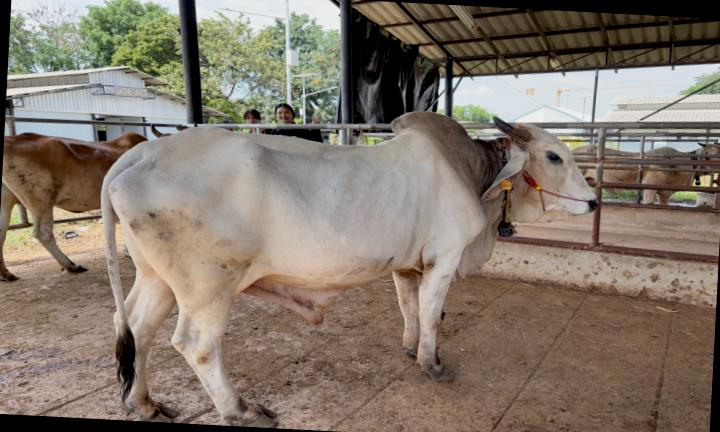Brahman: (100, 111, 596, 427)
